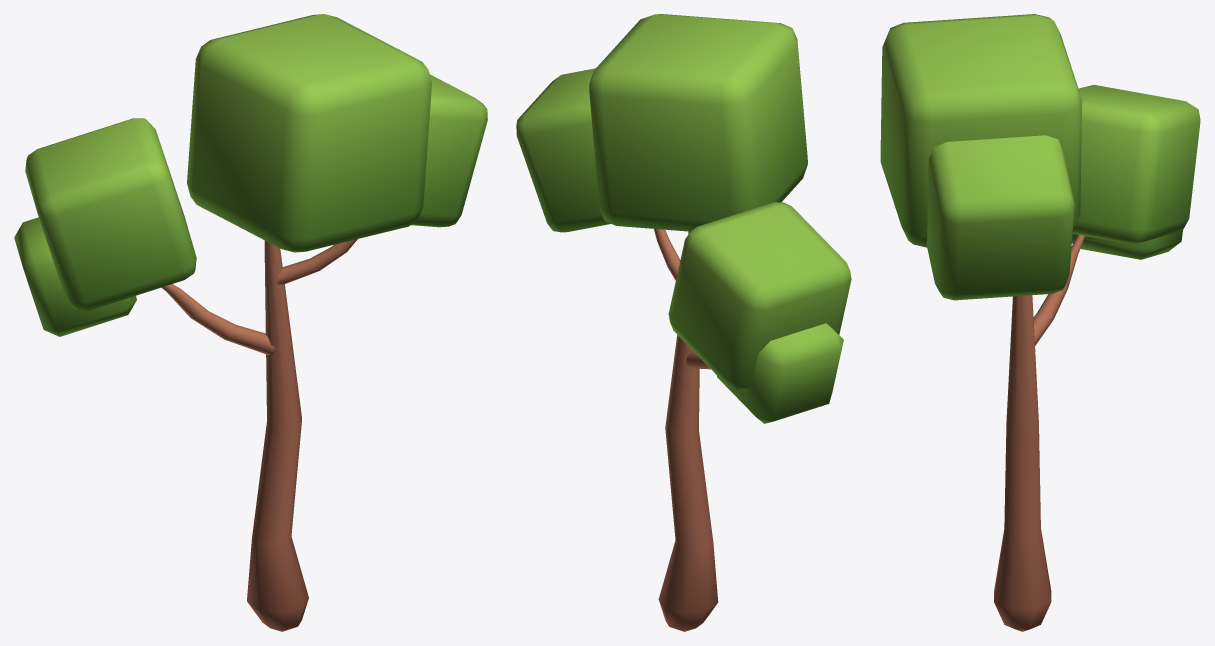
The model's file is Tree_2_C_Color3.fbx.
3 views of the same model, side by side, from view 1: azimuth 30°, elevation 25°; view 2: azimuth 150°, elevation 25°; view 3: azimuth 270°, elevation 25° (orthographic). The views are drawn at different scales.
Parts seen in each view (by area): view 1: Tree_2_C_Color3; view 2: Tree_2_C_Color3; view 3: Tree_2_C_Color3.
Part boxes in pixels (x1,y1,x2,y2): Tree_2_C_Color3: (14,14,487,631); Tree_2_C_Color3: (516,14,851,631); Tree_2_C_Color3: (880,14,1200,631).
Bounding box in the file's own units: 4.6 × 6.92 × 3.4.
